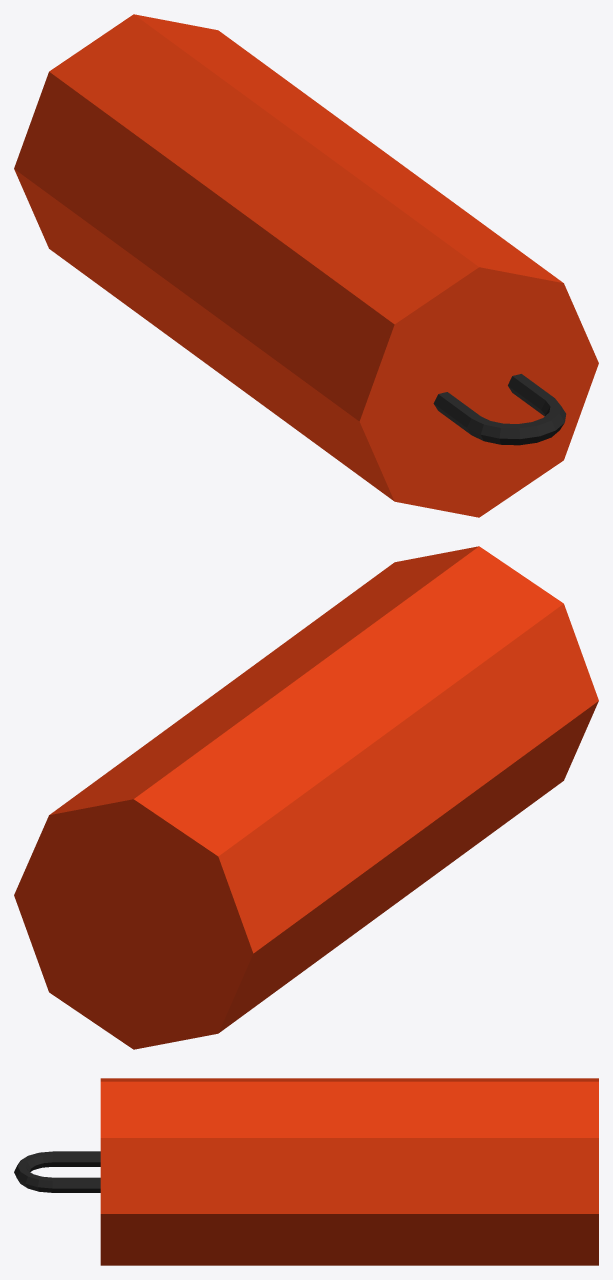
Rendered from punchie.fbx.
3 renders of one model, top to bottom at view 1: azimuth 30°, elevation 25°; view 2: azimuth 150°, elevation 25°; view 3: azimuth 270°, elevation 25°, orthographic. The views are drawn at different scales.
Parts seen in each view (by area): view 1: Punchie; view 2: Punchie; view 3: Punchie.
Boxes of the visible parts, left/top/right/bottom form: Punchie: left=14, top=14, right=598, bottom=517; Punchie: left=14, top=546, right=598, bottom=1049; Punchie: left=14, top=1078, right=598, bottom=1265.
Size of the model in its own units: 0.8 by 2.35 by 0.8.
